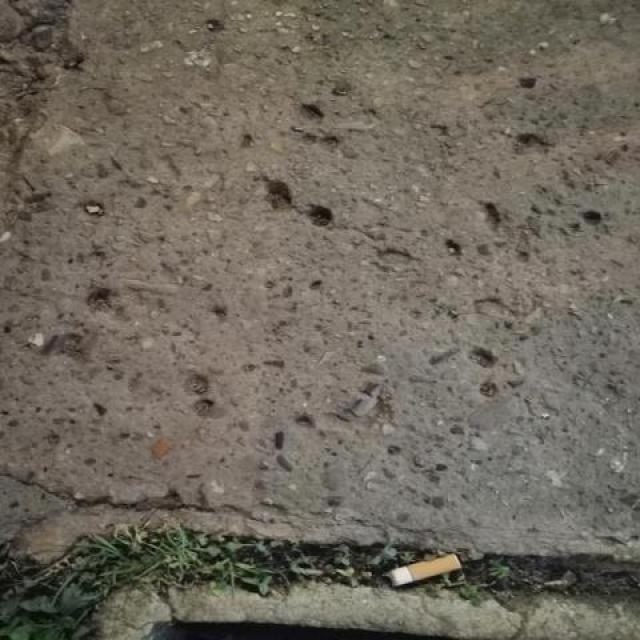non-organic waste: (381, 548, 468, 592)
